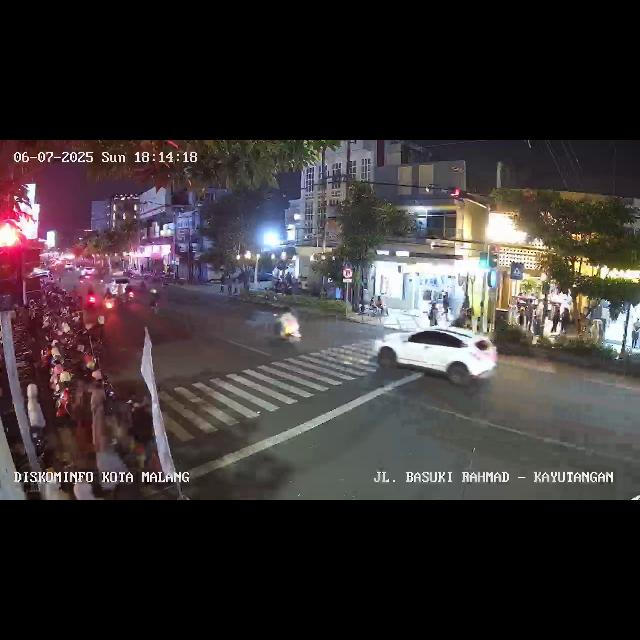car: (376, 326, 496, 390)
motorcycle: (273, 306, 303, 350), (148, 284, 162, 314), (120, 280, 136, 306)
person: (127, 384, 159, 484), (24, 382, 48, 466), (90, 375, 106, 465), (550, 302, 560, 336), (560, 304, 570, 336), (441, 292, 451, 322), (428, 300, 438, 326), (526, 300, 534, 330), (632, 320, 640, 348)
